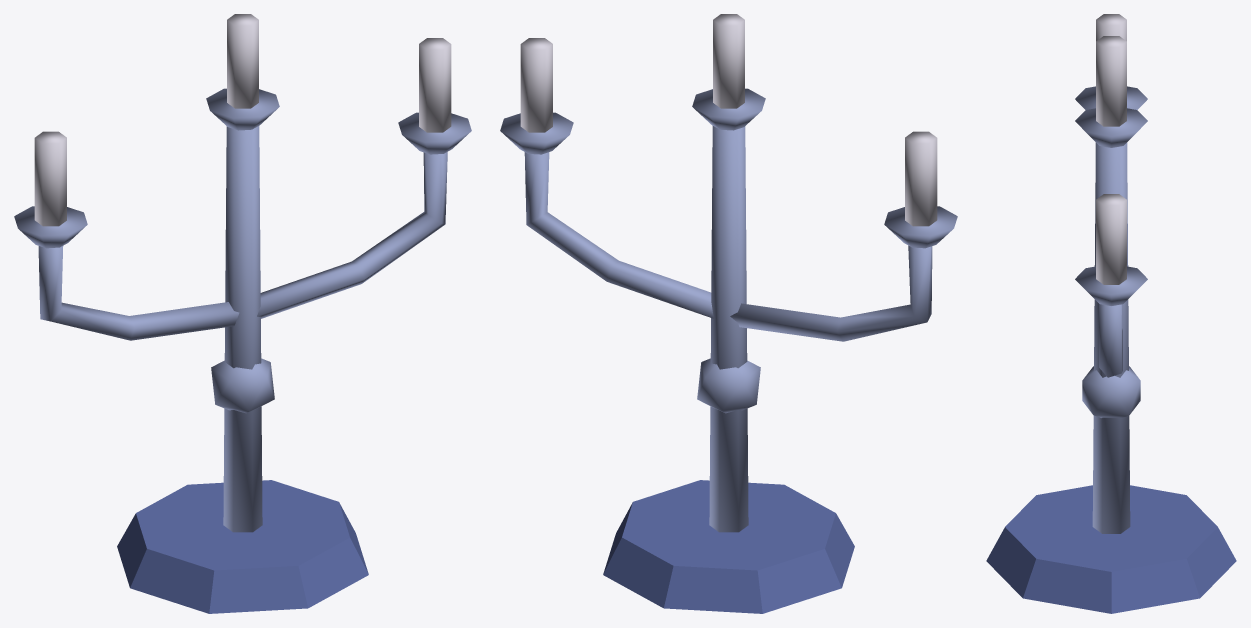
File: blue_dungeon_candelabra_v0.glb
The picture shows the model from 3 angles, left to right: view 1: azimuth 30°, elevation 25°; view 2: azimuth 150°, elevation 25°; view 3: azimuth 270°, elevation 25°; orthographic projection. The views are drawn at different scales.
Parts seen in each view (by area): view 1: blue_dungeon_candelabra_v0; view 2: blue_dungeon_candelabra_v0; view 3: blue_dungeon_candelabra_v0.
Boxes of the visible parts, box(x1,y1,x2,y2) form: blue_dungeon_candelabra_v0: box(14, 14, 471, 613); blue_dungeon_candelabra_v0: box(500, 14, 957, 613); blue_dungeon_candelabra_v0: box(986, 14, 1236, 613).
Bounding box in the file's own units: 0.797 × 0.915 × 0.4.
